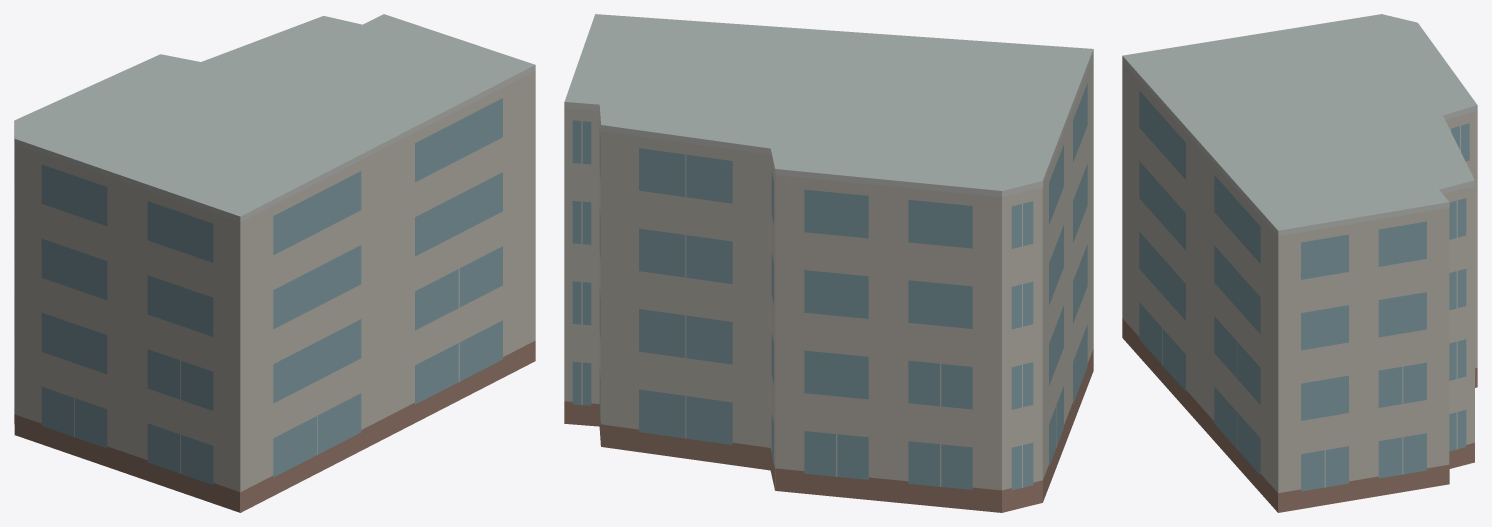
File: survey-upis-32832089.glb
3 renders of one model, left to right at view 1: azimuth 30°, elevation 25°; view 2: azimuth 150°, elevation 25°; view 3: azimuth 270°, elevation 25°, orthographic. The views are drawn at different scales.
Visible parts, largest first — view 1: survey-upis-32832089.tmp; view 2: survey-upis-32832089.tmp; view 3: survey-upis-32832089.tmp.
Boxes of the visible parts, x1=… form: survey-upis-32832089.tmp: x1=14, y1=14, x2=535, y2=512; survey-upis-32832089.tmp: x1=564, y1=14, x2=1093, y2=512; survey-upis-32832089.tmp: x1=1122, y1=14, x2=1477, y2=512.
Size of the model in its own units: 21.09 by 12.8 by 14.61.
